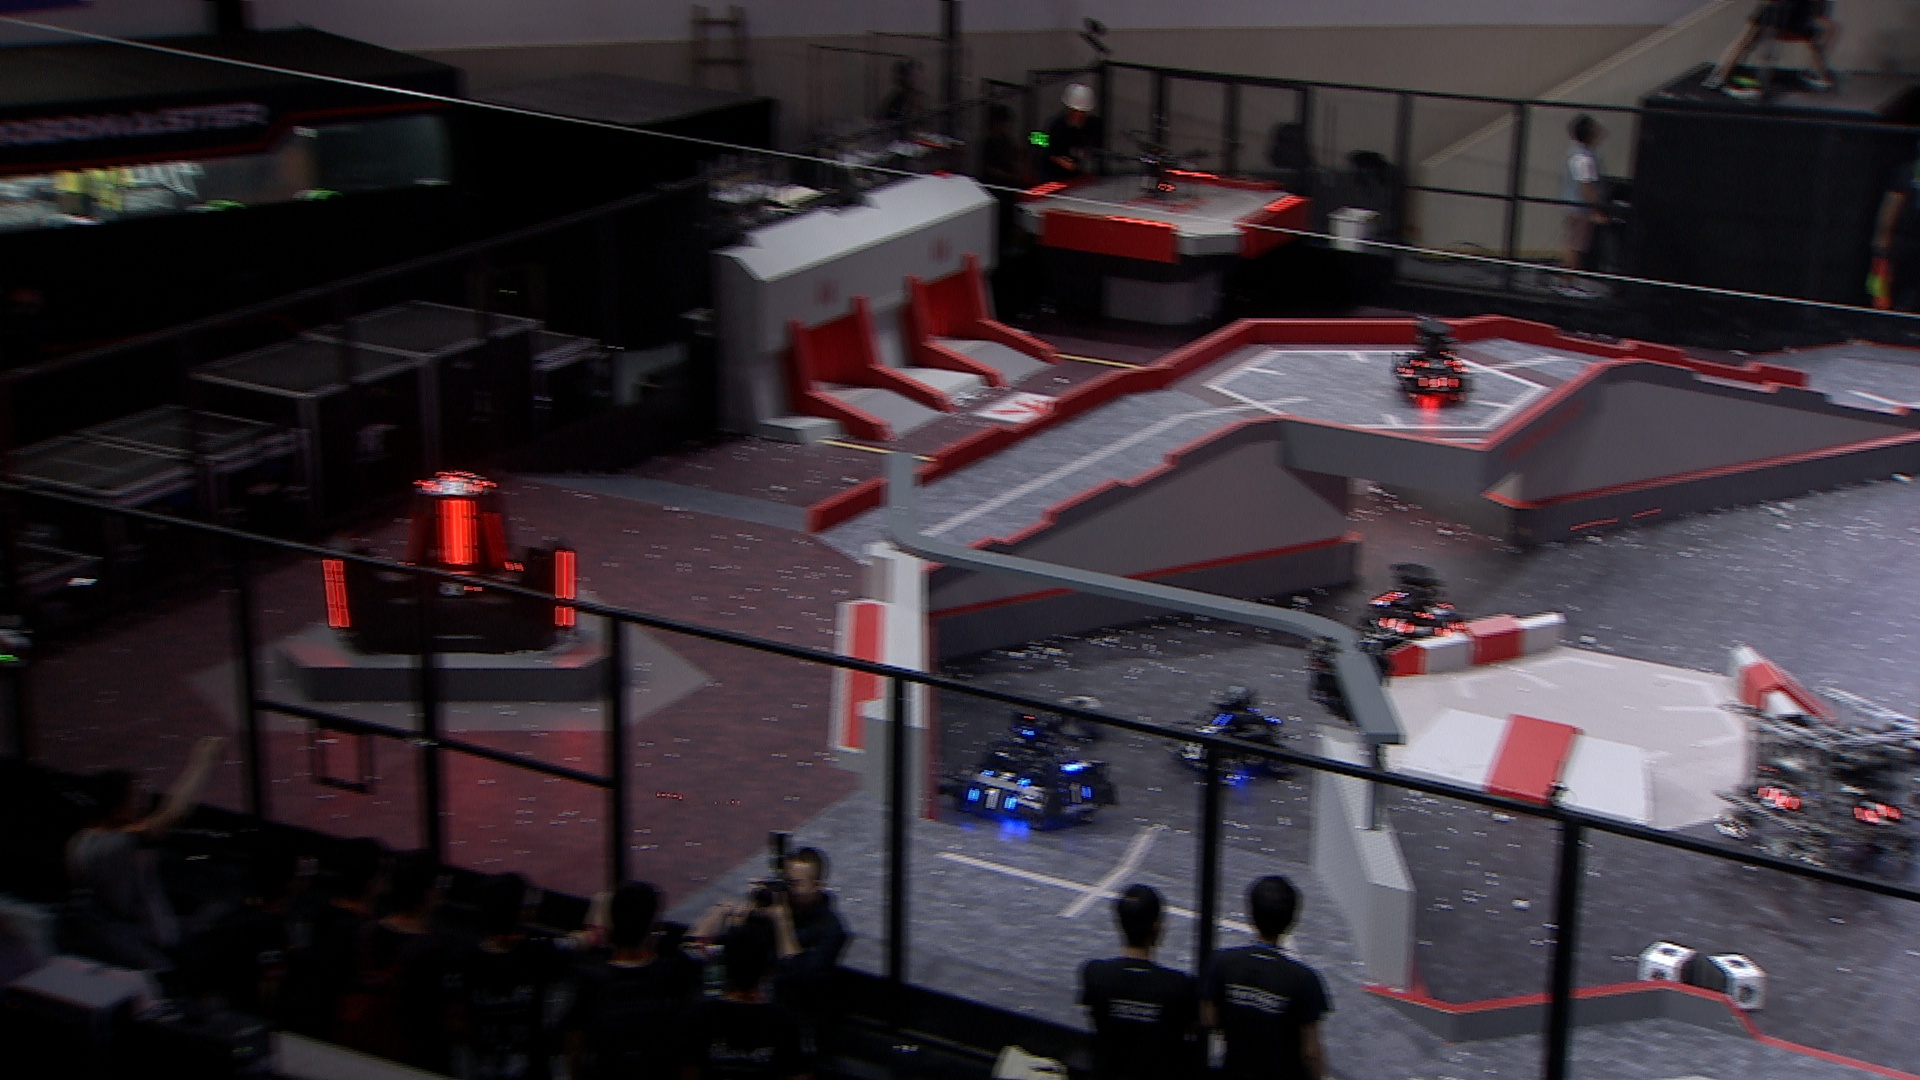armor: (442, 493, 475, 572), (320, 556, 352, 632), (476, 502, 508, 568), (553, 547, 579, 626), (423, 570, 484, 600), (1854, 794, 1902, 832), (963, 787, 1021, 815), (419, 475, 483, 498), (978, 766, 1035, 793), (1058, 779, 1098, 808), (1174, 732, 1209, 765), (1756, 785, 1795, 812), (1188, 717, 1225, 744), (1411, 600, 1452, 622), (1375, 612, 1414, 636), (1425, 373, 1458, 396), (1389, 357, 1418, 382), (1418, 353, 1452, 371)
base: (319, 465, 580, 659)
car: (1708, 688, 1920, 885), (940, 702, 1129, 829), (1168, 683, 1305, 785), (1356, 559, 1472, 644), (1385, 318, 1472, 404)
watcher: (1305, 612, 1396, 723)
